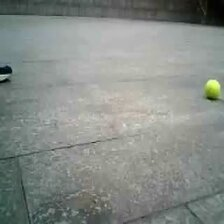tennis: (204, 79, 221, 97)
